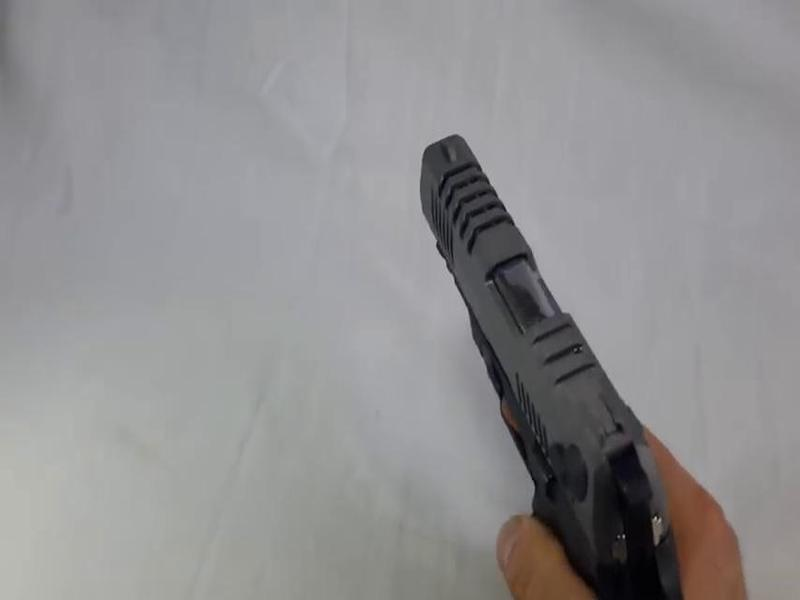Pistola: (400, 123, 703, 600)
